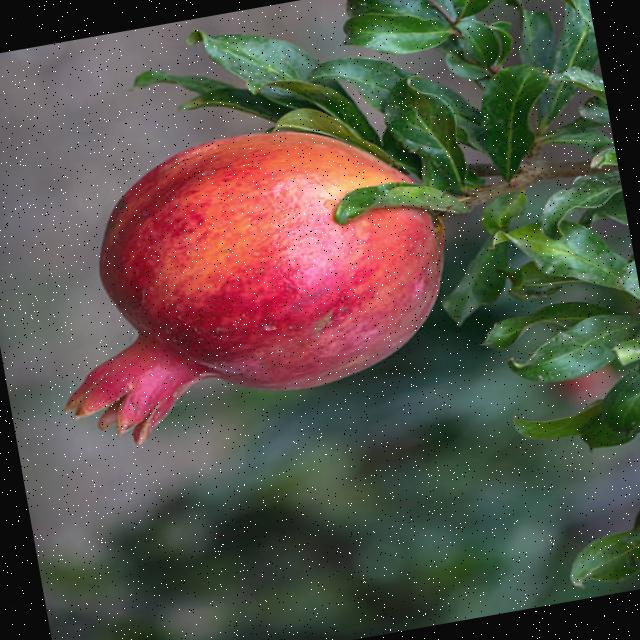Ripe: (15, 96, 480, 462)
